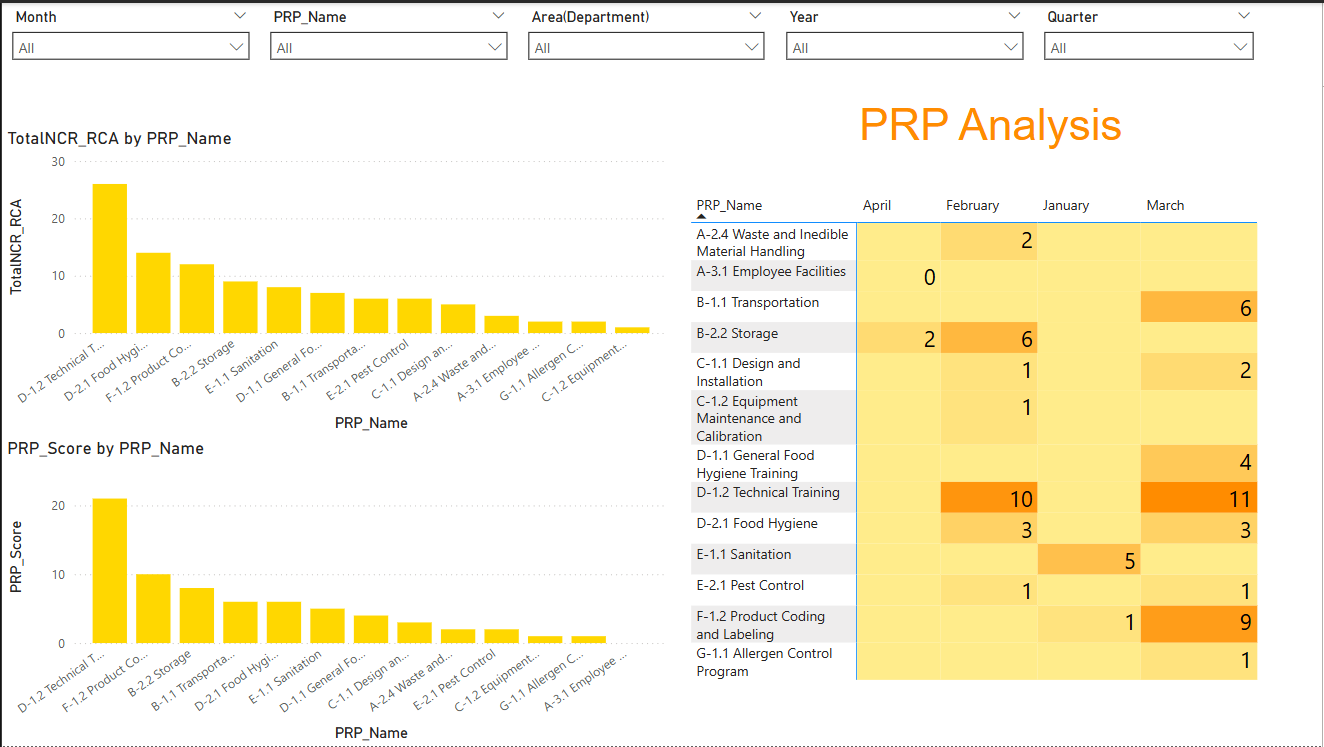

The page's visual inventory and layout, read from the dashboard file:
{"tool":"powerbi","page":{"name":"PRP Analysis","canvas":[1280,720],"ordinal":2},"visuals":[{"type":"columnChart","fields":{"Category":["PRPs.PRP_Name"],"Y":["measure.TotalNCR_RCA"]},"box":[0,120.6,650.2,299.8],"z":0},{"type":"pivotTable","fields":{"Rows":["PRPs.PRP_Name"],"Columns":["DateTable.Month"],"Values":["measure.PRP_Score"]},"box":[662.8,180.3,618,539.9],"z":1000},{"type":"columnChart","fields":{"Category":["PRPs.PRP_Name"],"Y":["measure.PRP_Score"]},"box":[0,420.4,650.2,299.8],"z":2000},{"type":"slicer","fields":{"Values":["DateTable.Month"]},"box":[0,0,250,74.7],"z":3000},{"type":"slicer","fields":{"Values":["DateTable.Quarter"]},"box":[1000.5,0,222.8,74.7],"z":4000},{"type":"slicer","fields":{"Values":["DateTable.Year"]},"box":[750.1,0,250.4,74.7],"z":5000},{"type":"slicer","fields":{"Values":["capa log.Area(Department)"]},"box":[500.8,0,249.3,74.7],"z":6000},{"type":"slicer","fields":{"Values":["PRPs.PRP_Name"]},"box":[250.4,0,250.4,74.7],"z":7000},{"type":"textbox","box":[825.9,89.6,290.6,60.9],"z":8000}]}

Visuals, with their boxes in screenshot pixels (x1, y1, x2, y2), scaled from the page's 1280x720 canvas onto the 1324x747 screenshot:
columnChart - PRPs.PRP_Name x measure.TotalNCR_RCA: bbox=[0, 125, 673, 436]
pivotTable - PRPs.PRP_Name x DateTable.Month: bbox=[686, 187, 1323, 746]
columnChart - PRPs.PRP_Name x measure.PRP_Score: bbox=[0, 436, 673, 746]
slicer - DateTable.Month: bbox=[0, 0, 259, 78]
slicer - DateTable.Quarter: bbox=[1035, 0, 1265, 78]
slicer - DateTable.Year: bbox=[776, 0, 1035, 78]
slicer - capa log.Area(Department): bbox=[518, 0, 776, 78]
slicer - PRPs.PRP_Name: bbox=[259, 0, 518, 78]
textbox: bbox=[854, 93, 1155, 156]
